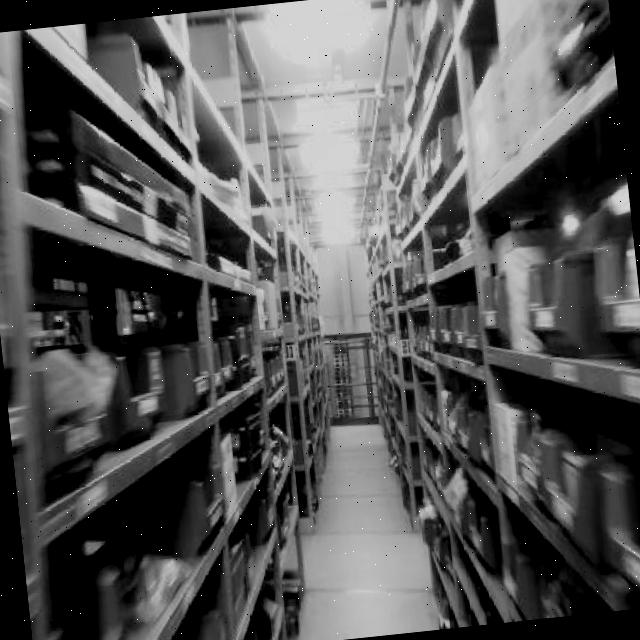ground: (255, 410, 445, 640)
pallet: (0, 2, 353, 640), (336, 0, 640, 632), (321, 327, 383, 426)
